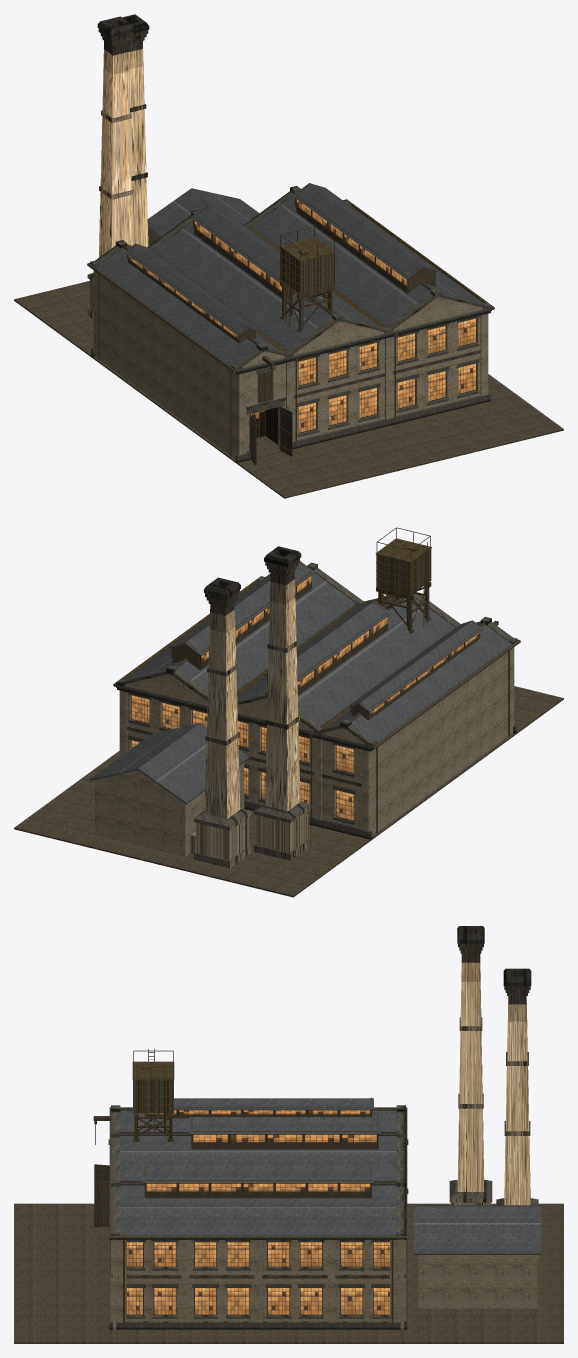
The model's file is no-2-flat-out-factory.glb.
The picture shows the model from 3 angles, top to bottom: view 1: azimuth 30°, elevation 25°; view 2: azimuth 150°, elevation 25°; view 3: azimuth 270°, elevation 25°; orthographic projection.
Parts seen in each view (by area): view 1: no-2-mill-roof, no-2-mill-walls, no-2-yard-setts, no-2-mill-stonework, no-2-chimney-a, no-2-mill-ironwork, no-2-chimney-b, no-2-mill-timber, no-2-water-tank, no-2-boiler-house-building, no-2-tank-trestle; view 2: no-2-mill-roof, no-2-mill-walls, no-2-yard-setts, no-2-boiler-house-building, no-2-chimney-a, no-2-chimney-b, no-2-mill-stonework, no-2-mill-ironwork, no-2-water-tank, no-2-mill-timber, no-2-tank-trestle, no-2-window-back-ground-01 (+1 smaller); view 3: no-2-mill-roof, no-2-yard-setts, no-2-boiler-house-building, no-2-mill-walls, no-2-mill-stonework, no-2-chimney-a, no-2-chimney-b, no-2-mill-timber, no-2-mill-ironwork, no-2-water-tank, no-2-tank-trestle, no-2-loading-door-right (+12 smaller).
Part boxes in pixels (bbox=[...]): no-2-mill-roof: bbox=[96, 183, 483, 365]; no-2-mill-walls: bbox=[93, 270, 488, 458]; no-2-yard-setts: bbox=[14, 281, 563, 498]; no-2-mill-stonework: bbox=[90, 186, 491, 462]; no-2-chimney-a: bbox=[87, 16, 134, 319]; no-2-mill-ironwork: bbox=[87, 188, 494, 456]; no-2-chimney-b: bbox=[122, 14, 149, 247]; no-2-mill-timber: bbox=[128, 183, 435, 402]; no-2-water-tank: bbox=[279, 237, 335, 294]; no-2-boiler-house-building: bbox=[147, 188, 259, 245]; no-2-tank-trestle: bbox=[280, 226, 335, 332]; no-2-mill-roof: bbox=[124, 561, 511, 742]; no-2-mill-walls: bbox=[119, 647, 514, 835]; no-2-yard-setts: bbox=[14, 686, 563, 897]; no-2-boiler-house-building: bbox=[89, 723, 249, 856]; no-2-chimney-a: bbox=[254, 546, 311, 860]; no-2-chimney-b: bbox=[194, 577, 250, 868]; no-2-mill-stonework: bbox=[116, 562, 517, 839]; no-2-mill-ironwork: bbox=[113, 571, 520, 832]; no-2-water-tank: bbox=[375, 538, 431, 595]; no-2-mill-timber: bbox=[172, 562, 498, 719]; no-2-tank-trestle: bbox=[376, 527, 431, 633]; no-2-window-back-ground-01: bbox=[336, 790, 353, 820]; no-2-mill-roof: bbox=[120, 1098, 396, 1235]; no-2-yard-setts: bbox=[14, 1203, 563, 1343]; no-2-boiler-house-building: bbox=[414, 1205, 541, 1308]; no-2-mill-walls: bbox=[110, 1239, 406, 1328]; no-2-mill-stonework: bbox=[109, 1105, 407, 1329]; no-2-chimney-a: bbox=[449, 926, 492, 1205]; no-2-chimney-b: bbox=[496, 968, 538, 1259]; no-2-mill-timber: bbox=[93, 1097, 378, 1198]; no-2-mill-ironwork: bbox=[94, 1107, 408, 1322]; no-2-water-tank: bbox=[132, 1061, 174, 1113]; no-2-tank-trestle: bbox=[133, 1049, 173, 1141]; no-2-loading-door-right: bbox=[94, 1181, 109, 1227].
Bounding box in the file's own units: 25.05 × 25.1 × 41.4.
22 materials, 22 textured.
